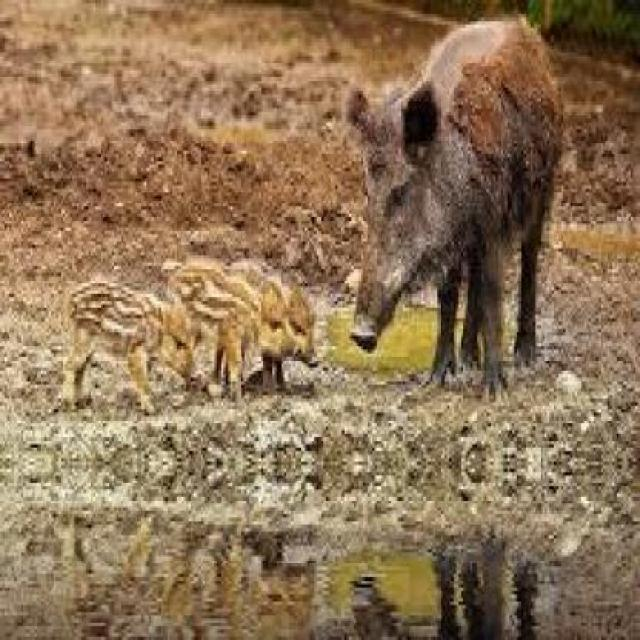wildboar: (342, 12, 567, 399), (48, 240, 320, 422)
